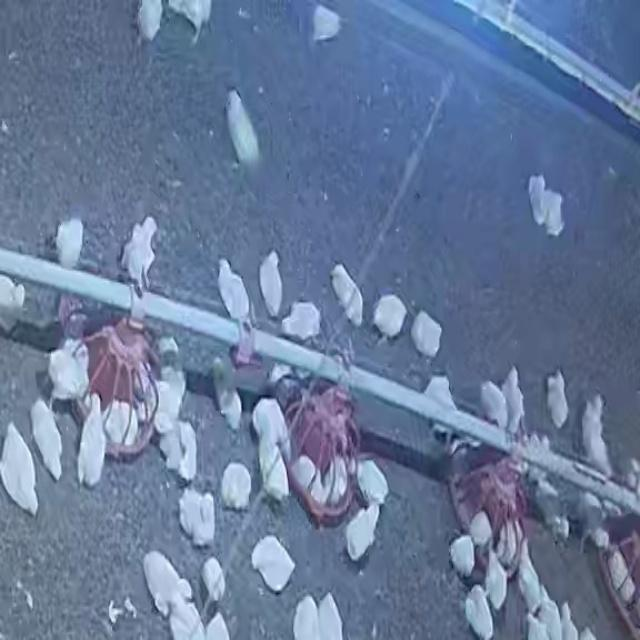chicken: (0, 423, 40, 515), (138, 544, 194, 608), (77, 392, 109, 487), (123, 212, 161, 289), (30, 396, 64, 482), (250, 396, 292, 462), (250, 535, 296, 593), (226, 88, 262, 162), (216, 256, 252, 326), (331, 260, 367, 328), (178, 487, 216, 547), (344, 503, 381, 561), (100, 401, 140, 448), (500, 366, 526, 436), (516, 546, 544, 610), (280, 301, 323, 342), (258, 250, 284, 317), (260, 445, 292, 499), (372, 294, 408, 342), (463, 584, 495, 638), (220, 462, 254, 510), (605, 546, 634, 602), (322, 447, 350, 505), (295, 455, 326, 507), (478, 379, 508, 432), (483, 545, 508, 608), (494, 515, 522, 571), (422, 374, 458, 417), (410, 310, 442, 358), (356, 459, 389, 505), (55, 217, 84, 269), (546, 370, 570, 429), (201, 556, 226, 606), (449, 534, 477, 578), (540, 189, 564, 237), (528, 175, 548, 224), (468, 512, 493, 549), (221, 388, 242, 427)
